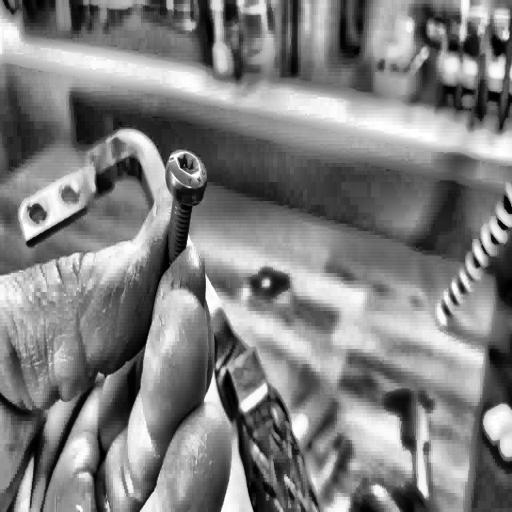nut: (160, 145, 208, 271)
